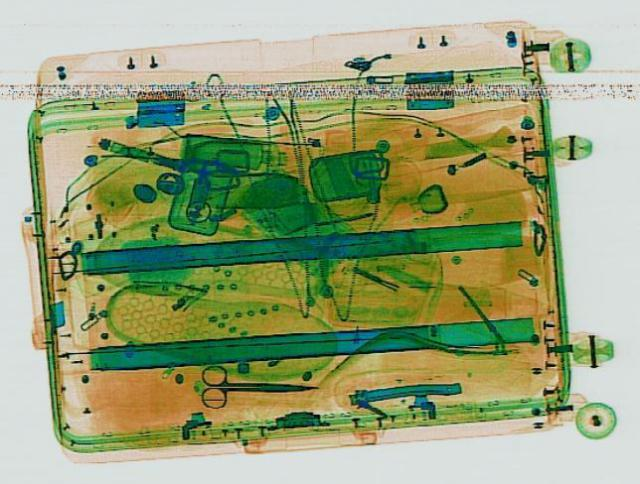Scissors: (199, 362, 319, 405)
